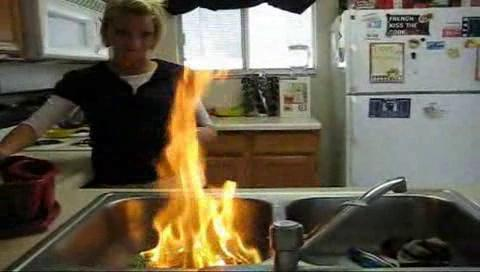fire: (14, 71, 258, 269)
